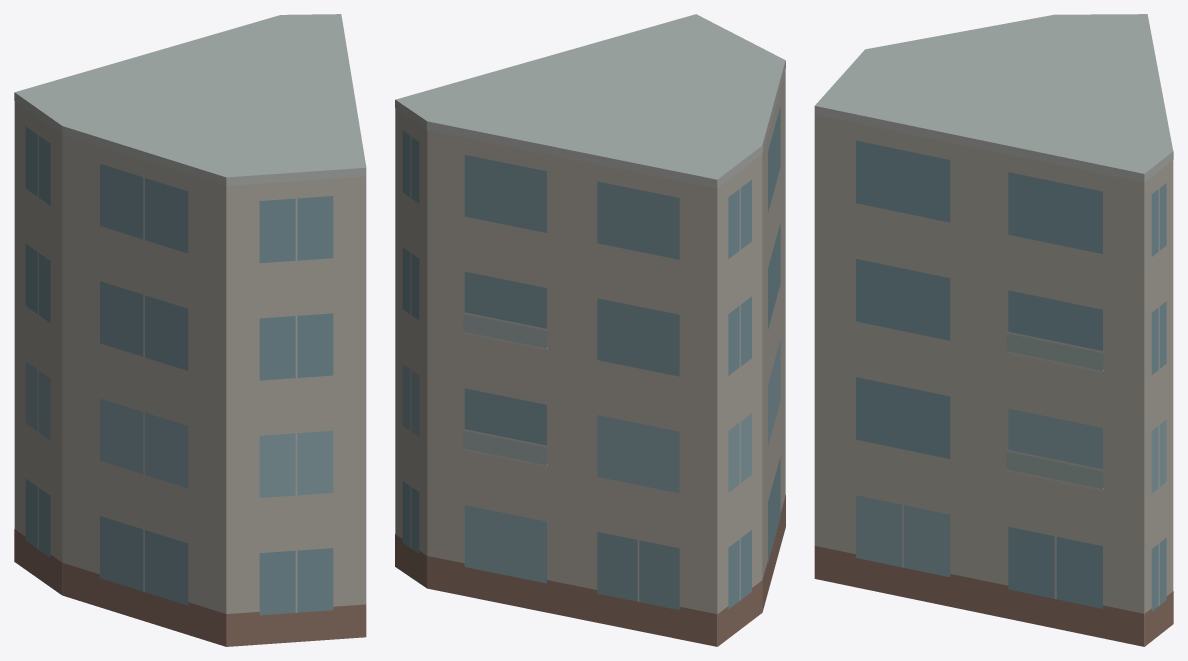
Rendered from survey-upis-32875827.glb.
The picture shows the model from 3 angles, left to right: view 1: azimuth 30°, elevation 25°; view 2: azimuth 150°, elevation 25°; view 3: azimuth 270°, elevation 25°; orthographic projection.
Visible parts, largest first — view 1: survey-upis-32875827.tmp; view 2: survey-upis-32875827.tmp; view 3: survey-upis-32875827.tmp.
Boxes of the visible parts, box(x1,y1,x2,y2) form: survey-upis-32875827.tmp: box(14, 14, 366, 646); survey-upis-32875827.tmp: box(395, 14, 785, 646); survey-upis-32875827.tmp: box(814, 14, 1173, 646).
Bounding box in the file's own units: 9.62 × 13.25 × 9.12.
